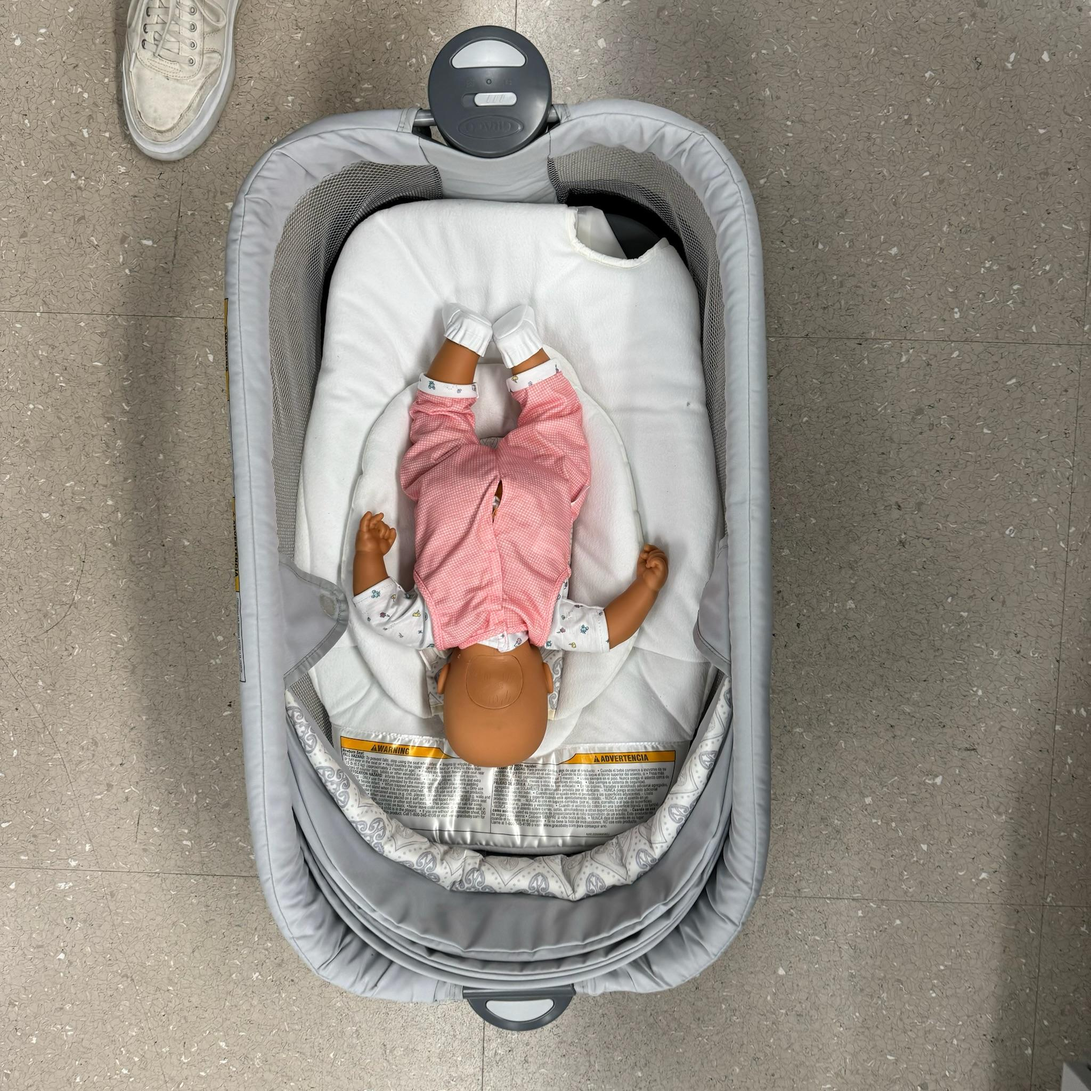baby: (346, 295, 670, 772)
